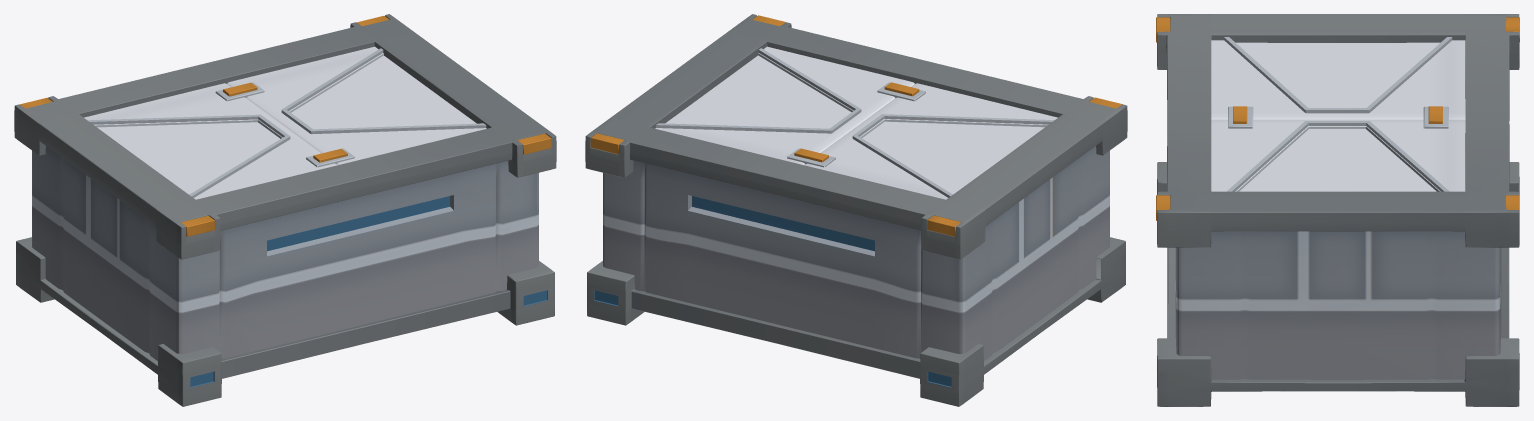
Rendered from Crate.fbx.
3 views of the same model, side by side, from view 1: azimuth 30°, elevation 25°; view 2: azimuth 150°, elevation 25°; view 3: azimuth 270°, elevation 25° (orthographic). The views are drawn at different scales.
Visible parts, largest first — view 1: Crate_high1; view 2: Crate_high1; view 3: Crate_high1.
Part boxes in pixels (bbox=[...]): Crate_high1: bbox=[14, 14, 556, 406]; Crate_high1: bbox=[585, 14, 1127, 406]; Crate_high1: bbox=[1156, 14, 1519, 406].
Bounding box in the file's own units: 74.39 × 34.16 × 57.51.
1 material, 1 textured.
